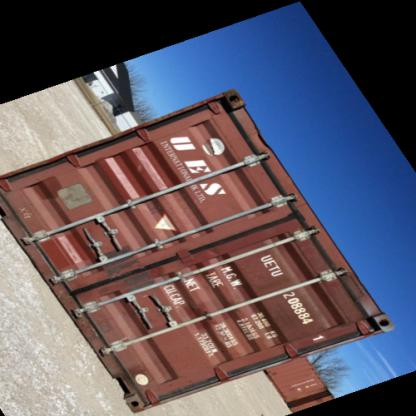Damage: (101, 247, 155, 300), (332, 261, 378, 308), (118, 359, 156, 407), (216, 88, 248, 112), (248, 132, 277, 158), (138, 151, 152, 181), (210, 244, 228, 260)
